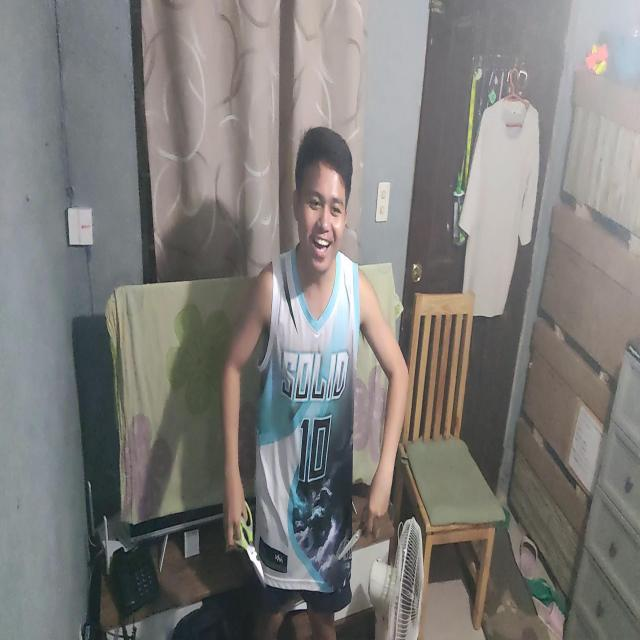scissor: (223, 498, 266, 585), (336, 501, 380, 563)
